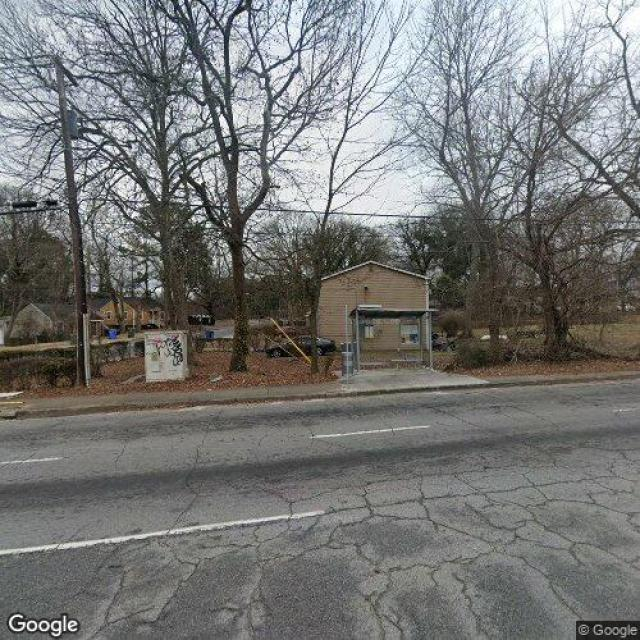seating: (388, 358, 421, 370)
shelter: (348, 304, 440, 376)
trash_can: (341, 350, 355, 378)
